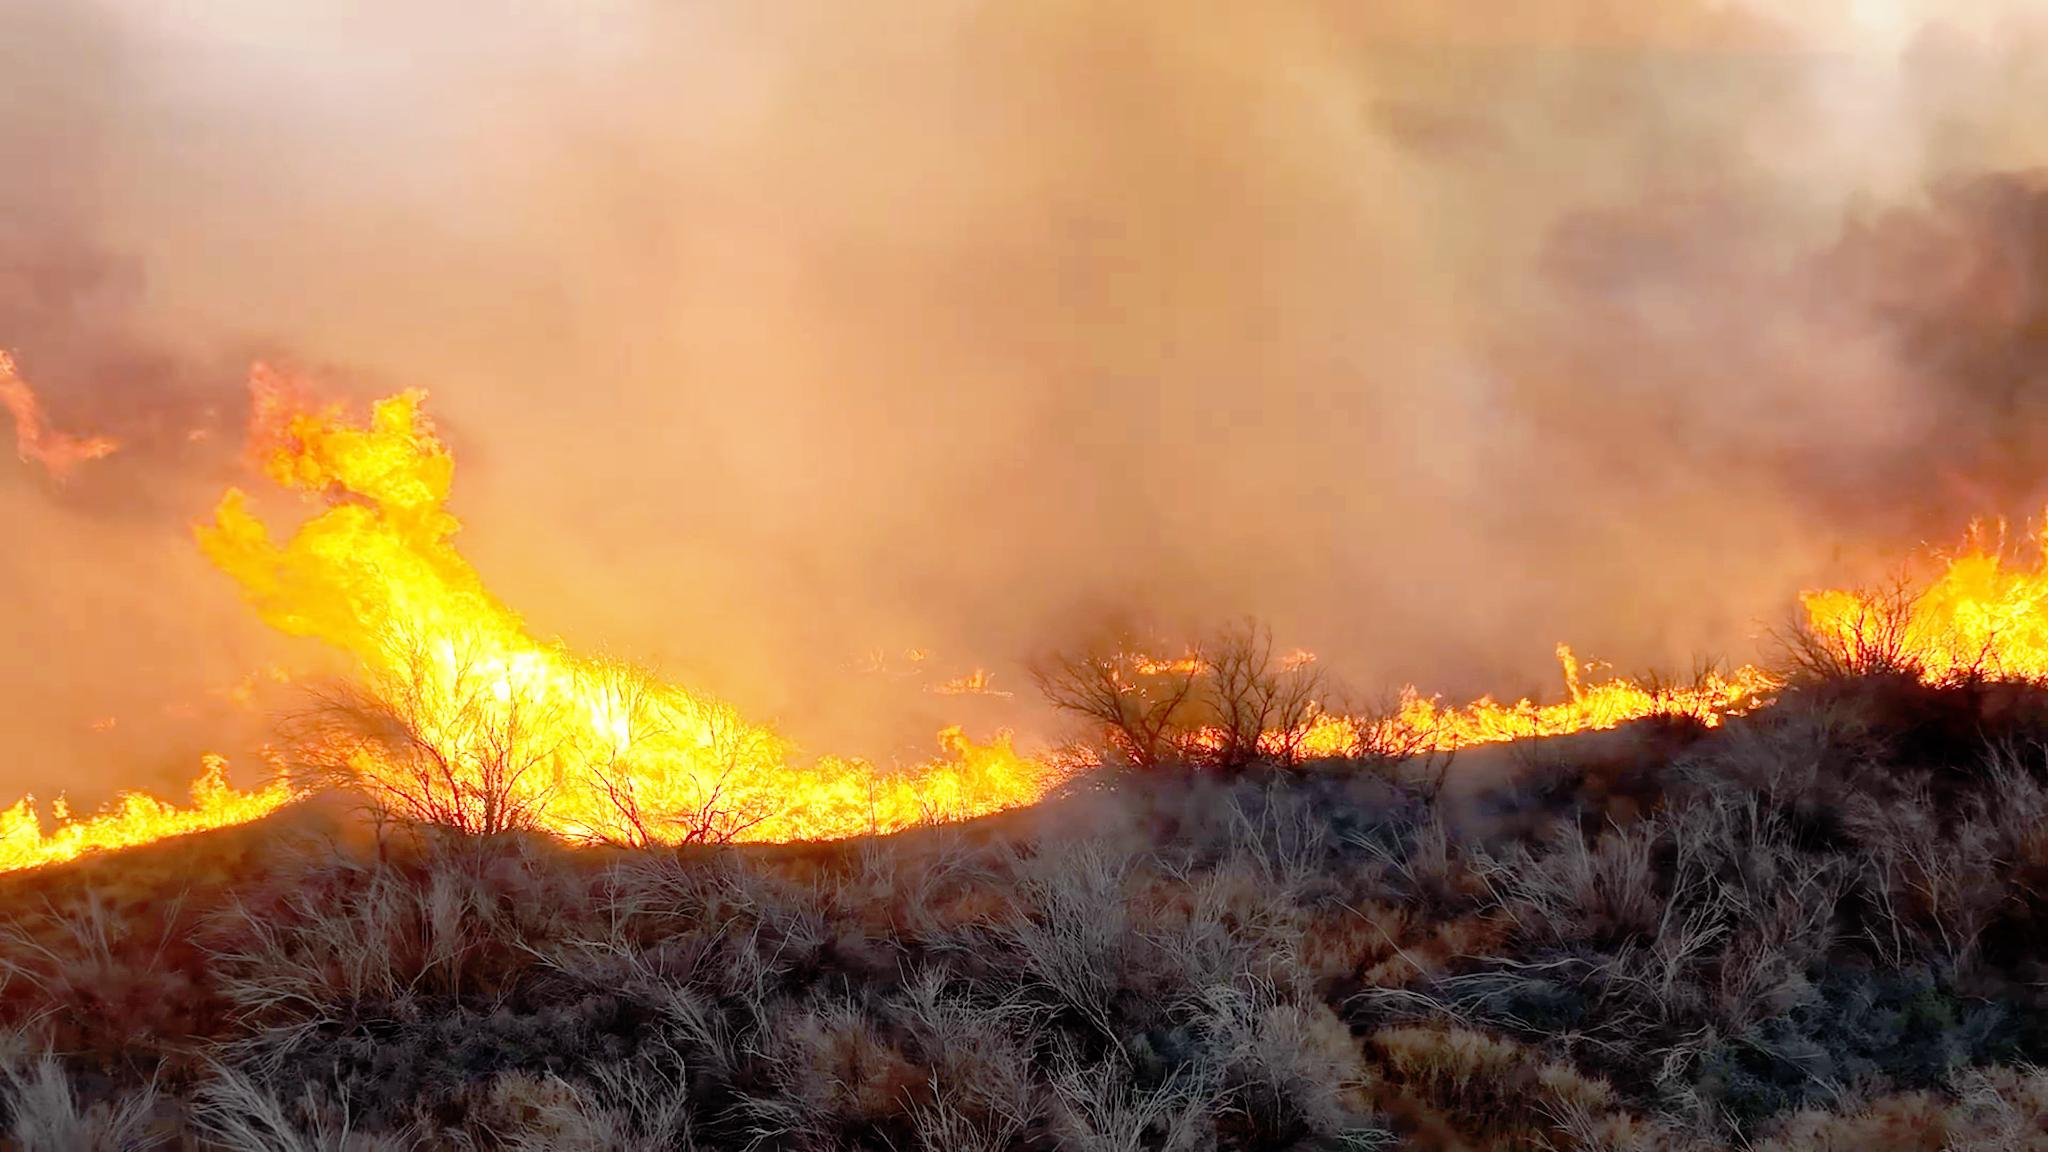fire: (228, 371, 730, 833), (463, 665, 1069, 847), (1782, 506, 2048, 691), (17, 717, 307, 866)
smoke: (1684, 121, 2048, 498)
